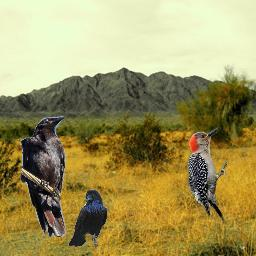Crow: (20, 115, 67, 237), (69, 189, 107, 248)
Woodpecker: (184, 125, 227, 229)
